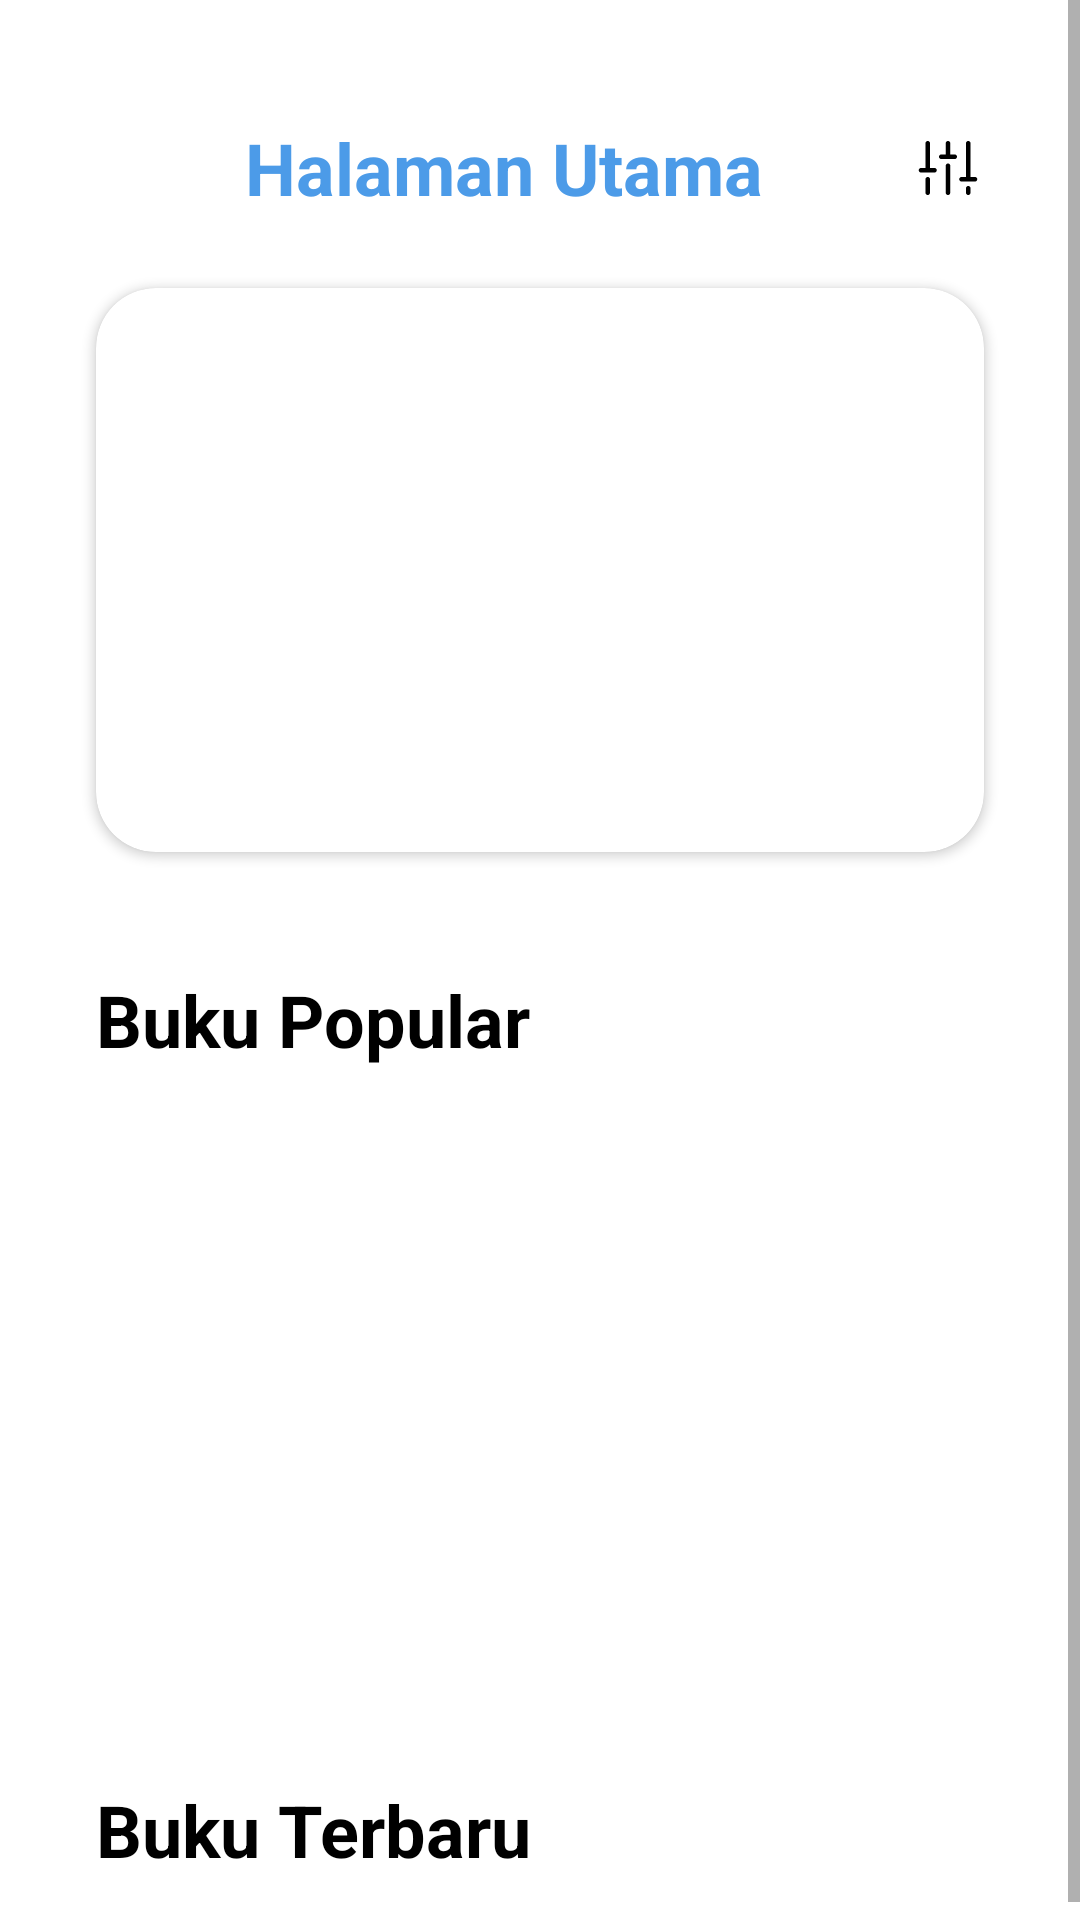

Point at icon controls on the screen. Image size 1080×1920, points as (x,y).
press navigate settings: (948,168)
